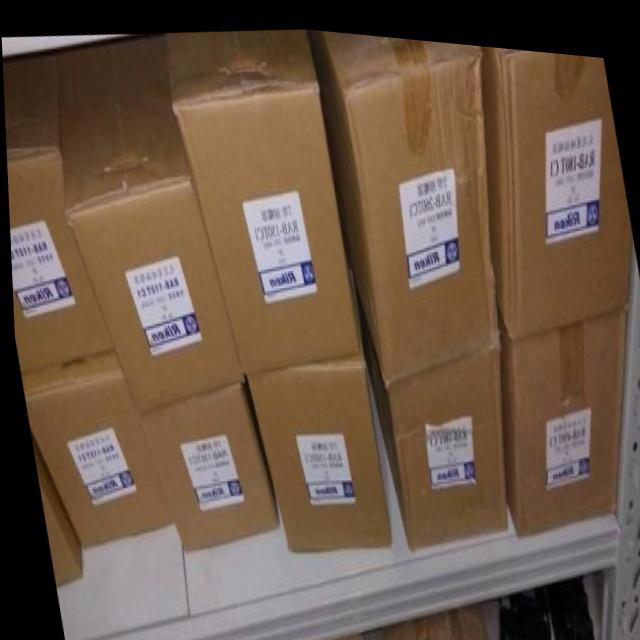box: (162, 25, 358, 372), (317, 25, 495, 376), (54, 83, 241, 414), (479, 36, 631, 329), (350, 270, 503, 541), (494, 291, 626, 525), (18, 350, 170, 548), (244, 349, 388, 545), (4, 124, 110, 376), (135, 376, 277, 547)
